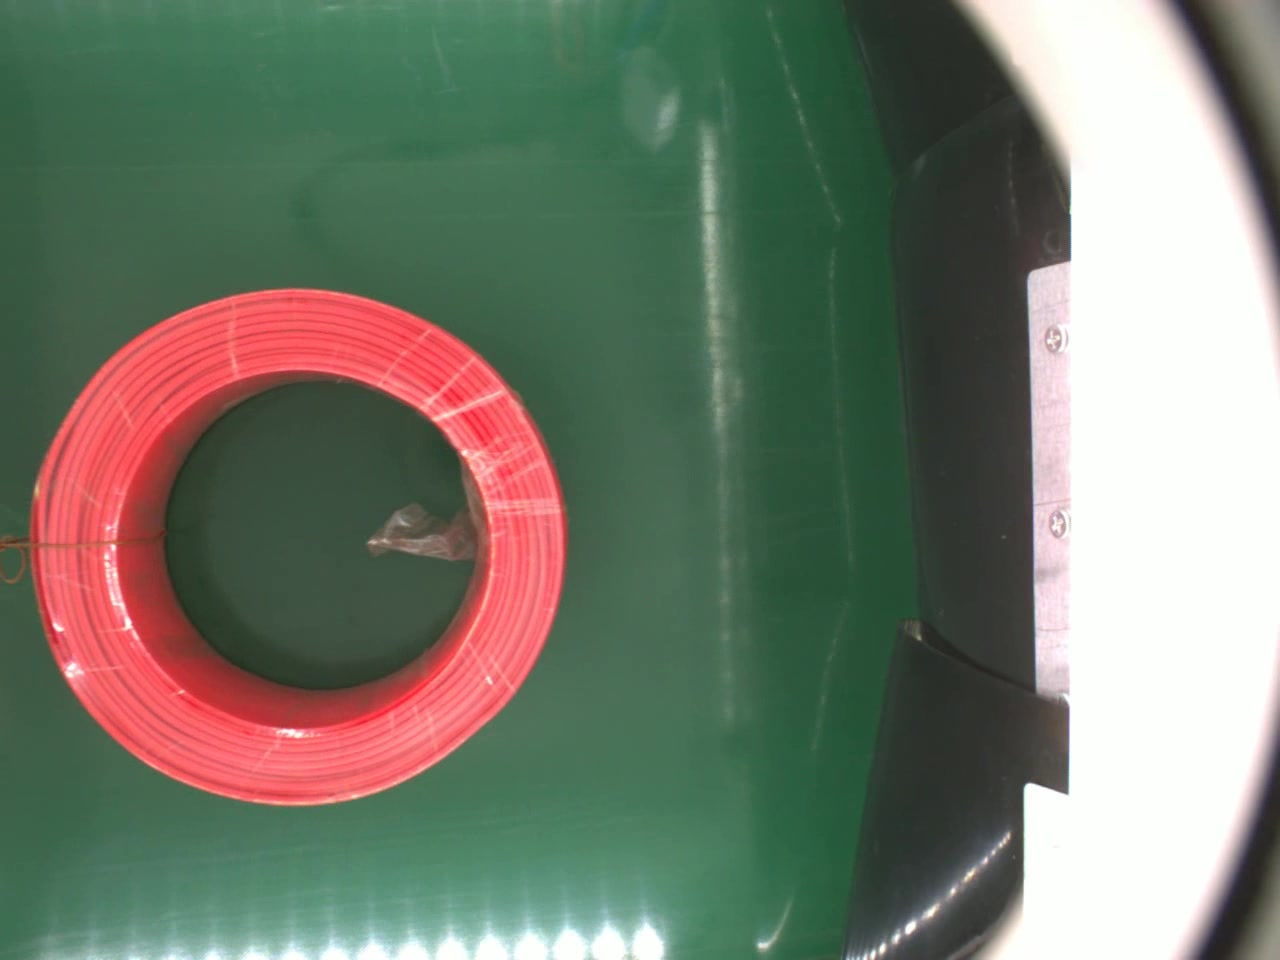red: (28, 285, 571, 810)
